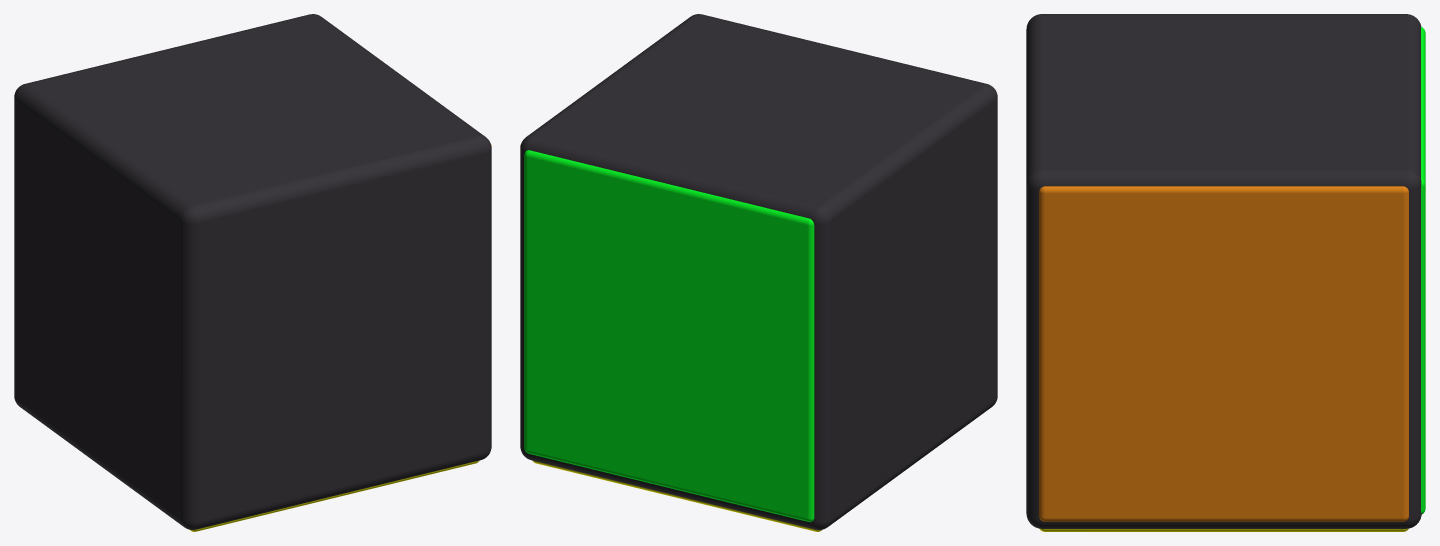
Rendered from yogCorner.obj.
3 renders of one model, left to right at view 1: azimuth 30°, elevation 25°; view 2: azimuth 150°, elevation 25°; view 3: azimuth 270°, elevation 25°, orthographic. The views are drawn at different scales.
Visible parts, largest first — view 1: 000_Base, 002_yellow; view 2: 000_Base, 003_green, 002_yellow; view 3: 001_orange, 000_Base, 003_green, 002_yellow.
Part boxes in pixels (box(x1,y1,x2,y2)): 000_Base: box(14, 14, 491, 529); 002_yellow: box(189, 460, 479, 531); 000_Base: box(520, 14, 997, 529); 003_green: box(524, 150, 814, 522); 002_yellow: box(532, 460, 822, 531); 001_orange: box(1039, 186, 1408, 521); 000_Base: box(1026, 14, 1421, 528); 003_green: box(1421, 27, 1425, 514); 002_yellow: box(1039, 528, 1408, 531).
Bounding box in the file's own units: 101 × 101 × 101.
